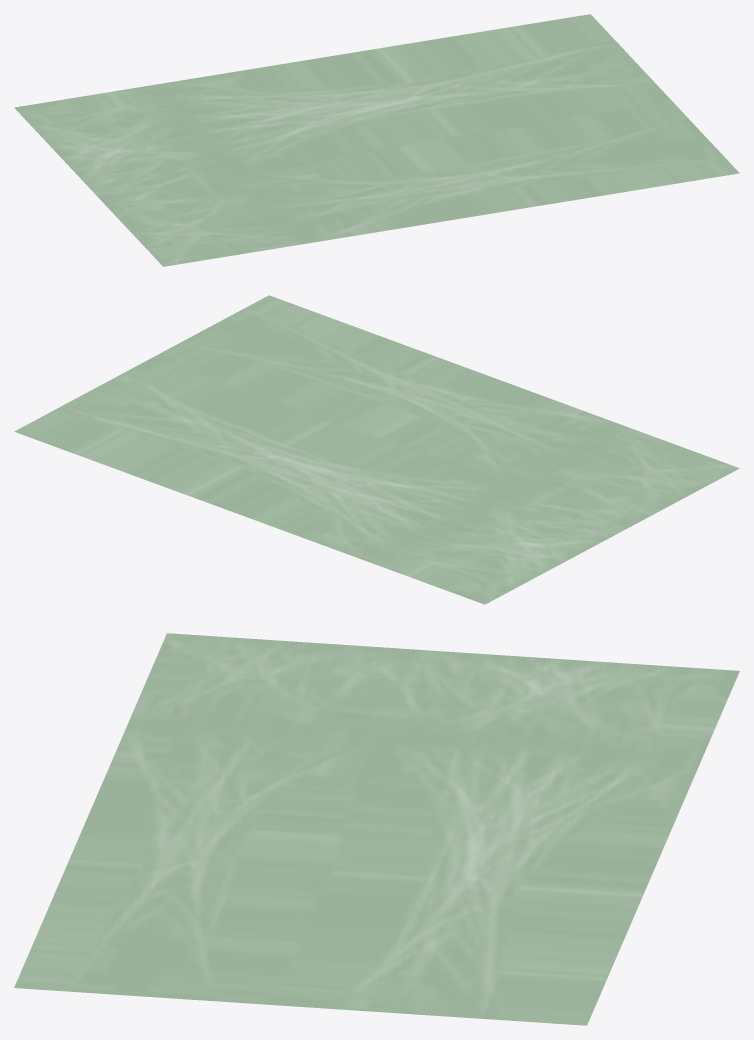
File: 6001_Item_zhizhuwang_6.FBX
3 renders of one model, top to bottom at view 1: azimuth 30°, elevation 25°; view 2: azimuth 150°, elevation 25°; view 3: azimuth 270°, elevation 25°, orthographic. The views are drawn at different scales.
Visible parts, largest first — view 1: 6001_Item_zhizhuwang_6; view 2: 6001_Item_zhizhuwang_6; view 3: 6001_Item_zhizhuwang_6.
Part boxes in pixels (x1,y1,x2,y2): 6001_Item_zhizhuwang_6: [14, 14, 739, 266]; 6001_Item_zhizhuwang_6: [14, 295, 739, 604]; 6001_Item_zhizhuwang_6: [14, 633, 739, 1025].
Bounding box in the file's own units: 3355 × 35.74 × 2581.
